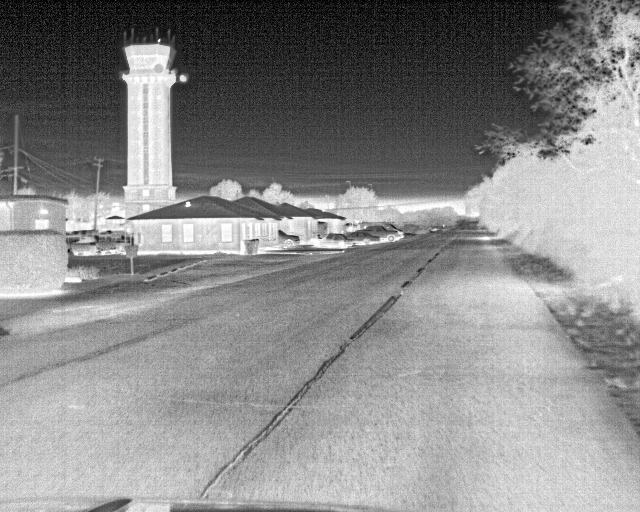car: (69, 234, 101, 258), (310, 233, 350, 250), (367, 225, 398, 242), (349, 230, 378, 247), (277, 229, 299, 250), (382, 221, 405, 240)
